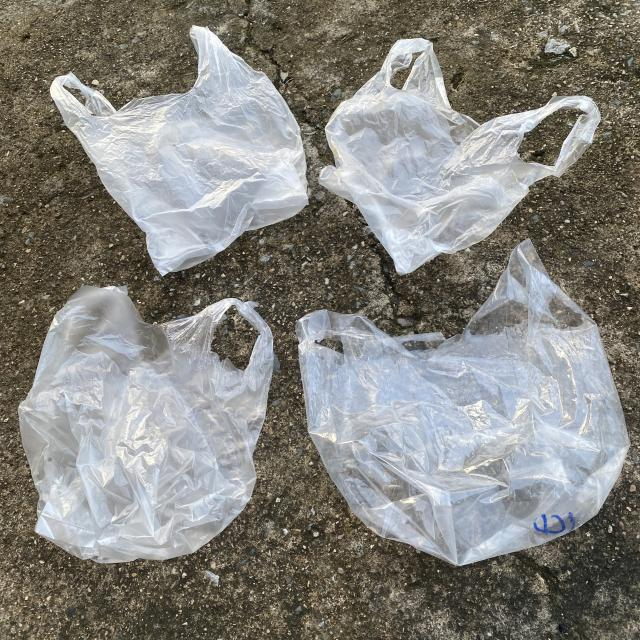Single-layer Plastic: (296, 240, 630, 565), (19, 286, 274, 562), (319, 39, 600, 274), (50, 26, 308, 275)
